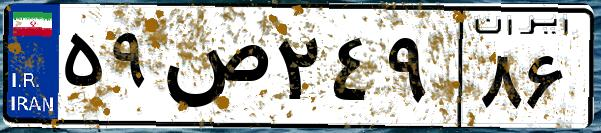2: (270, 28, 330, 110)
4: (330, 28, 385, 110)
5: (57, 26, 110, 100)
6: (525, 38, 570, 115)
8: (475, 38, 525, 113)
9: (385, 28, 445, 110), (110, 28, 158, 98)
ص: (158, 20, 270, 120)
